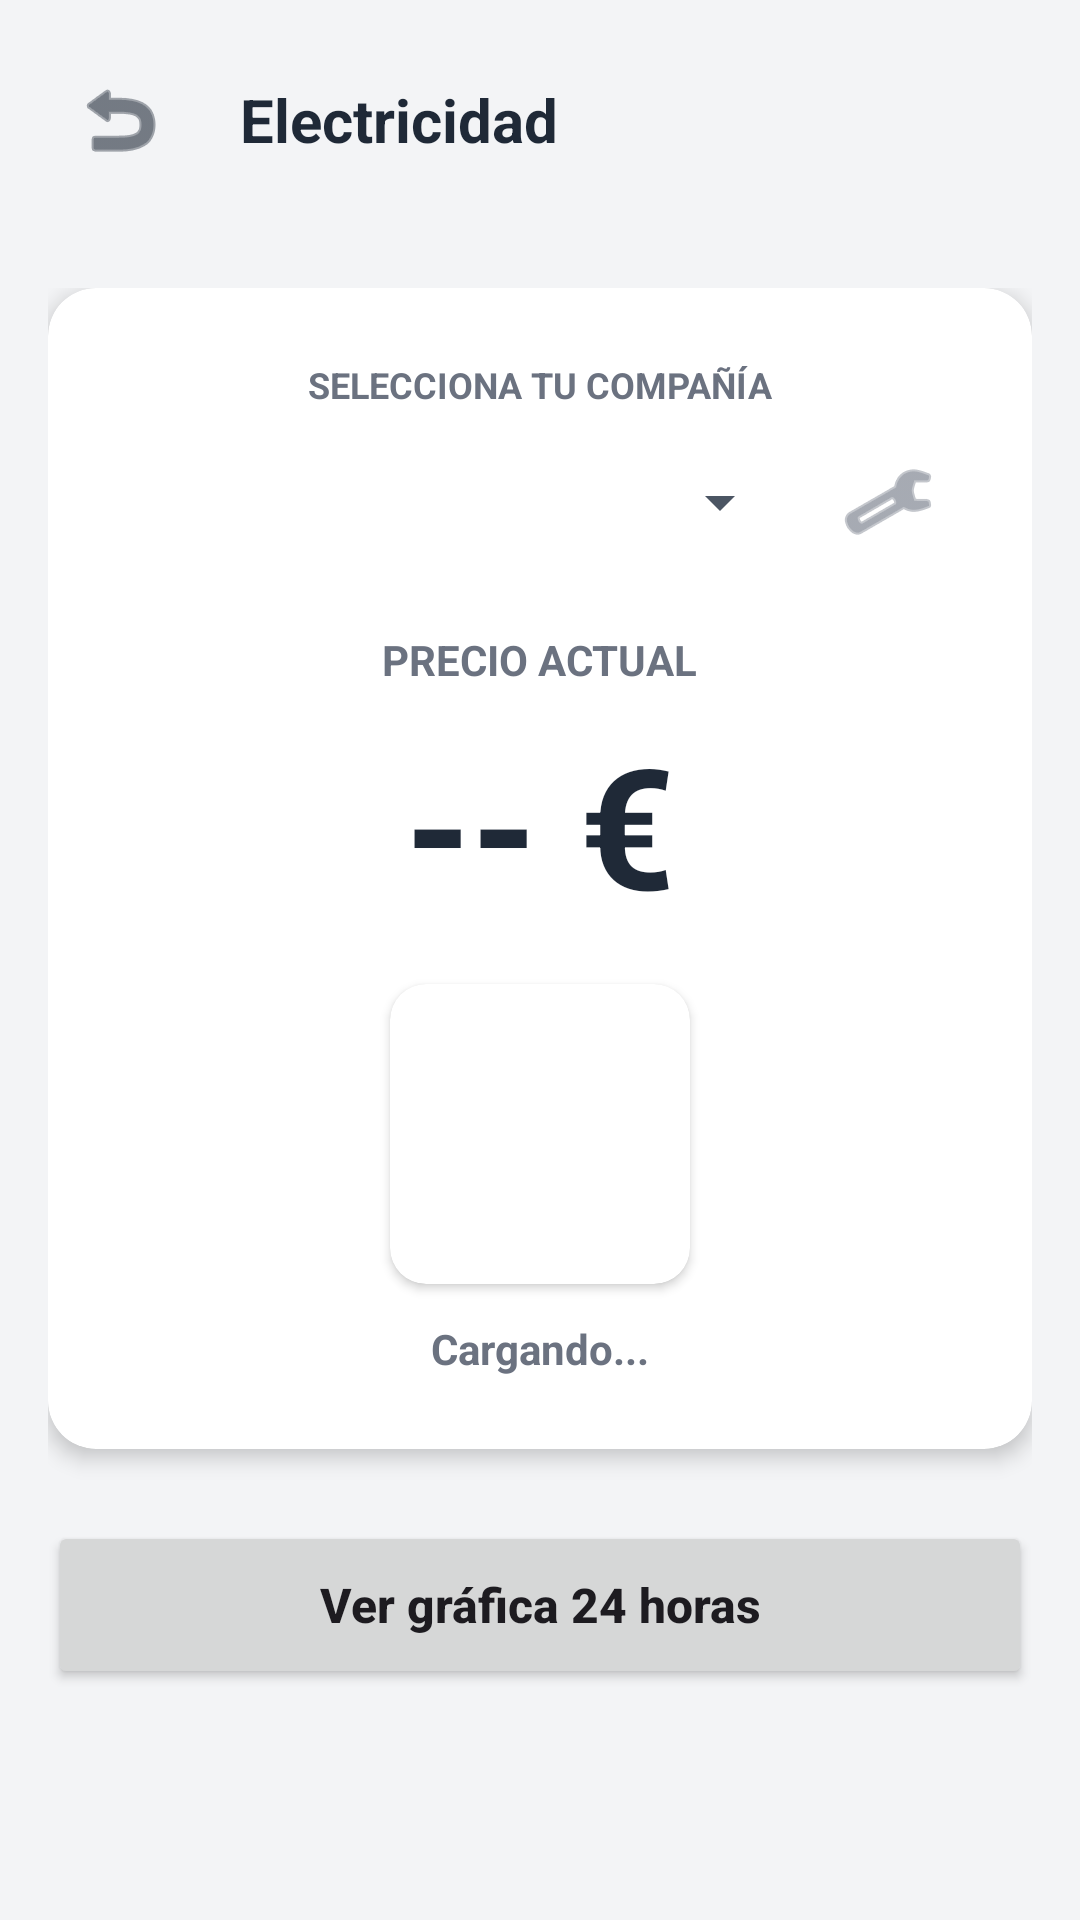

Icon click points for this 1080px x 1920px phone screenshot, format (x,y):
Volver: (121,120)
